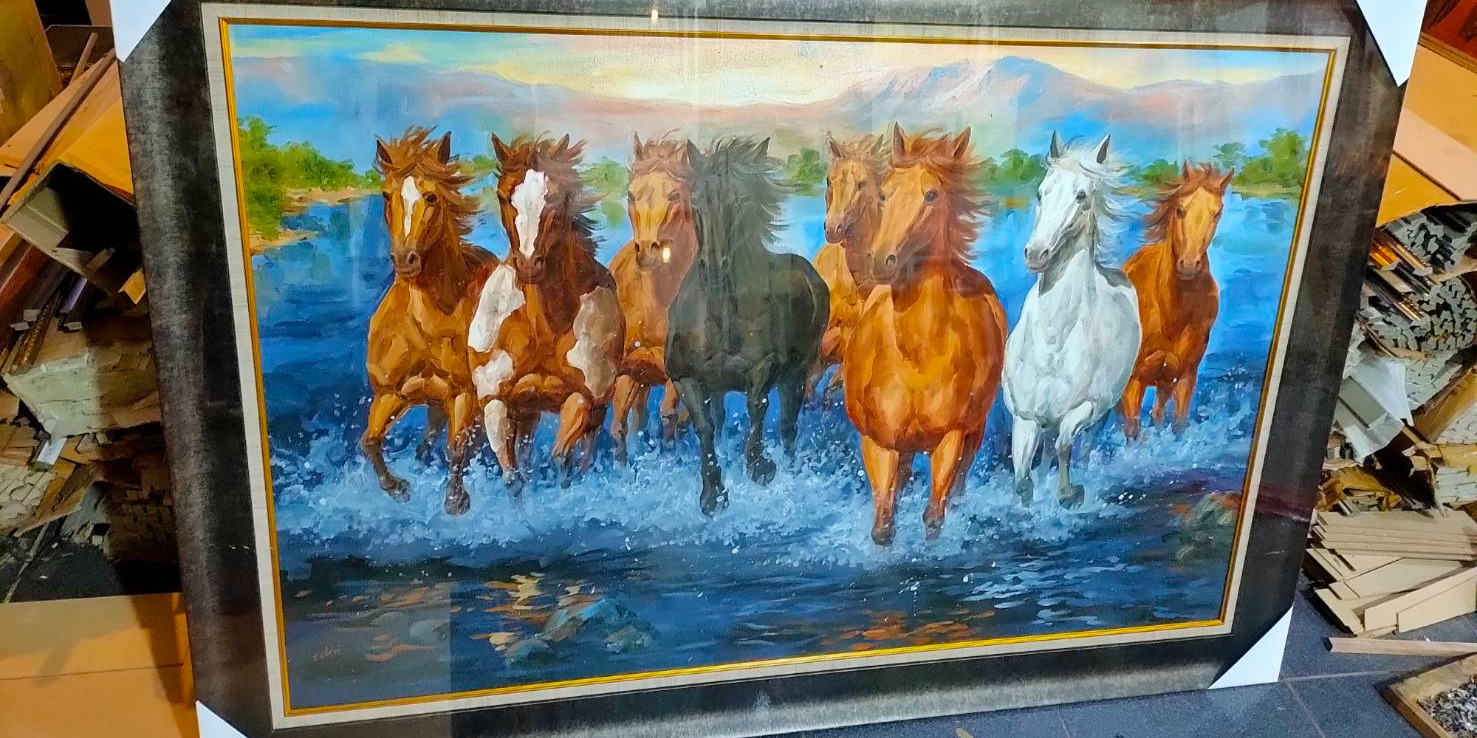lukisan: (123, 1, 1386, 707)
